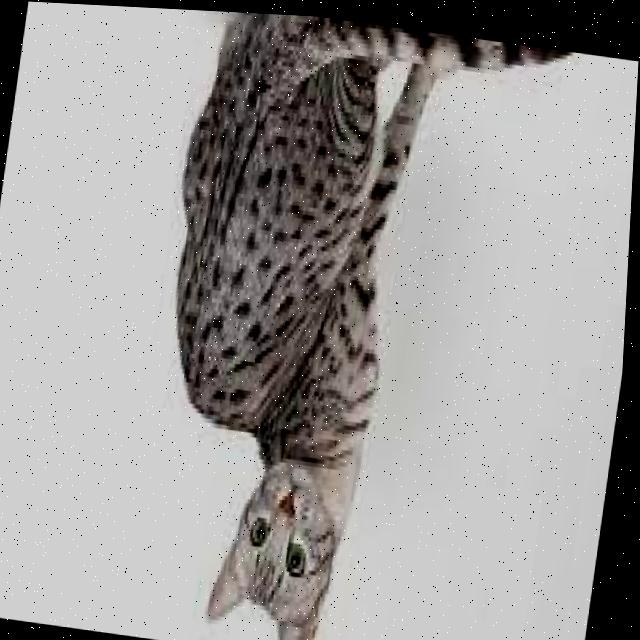Egyptian Mau: (119, 6, 585, 640)
